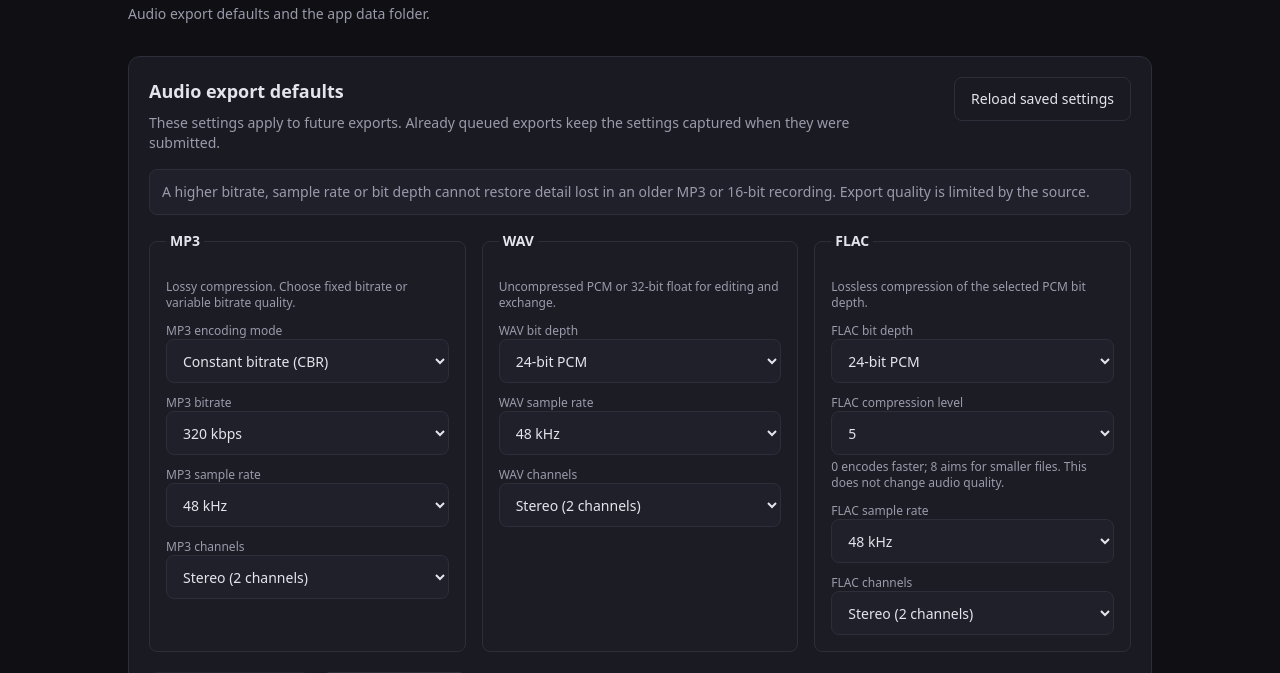
Test: preserves edits made during a reload while refreshing the saved baseline and defaults
Click the button "Reload saved settings": (1043, 99) [954,77,1131,121]
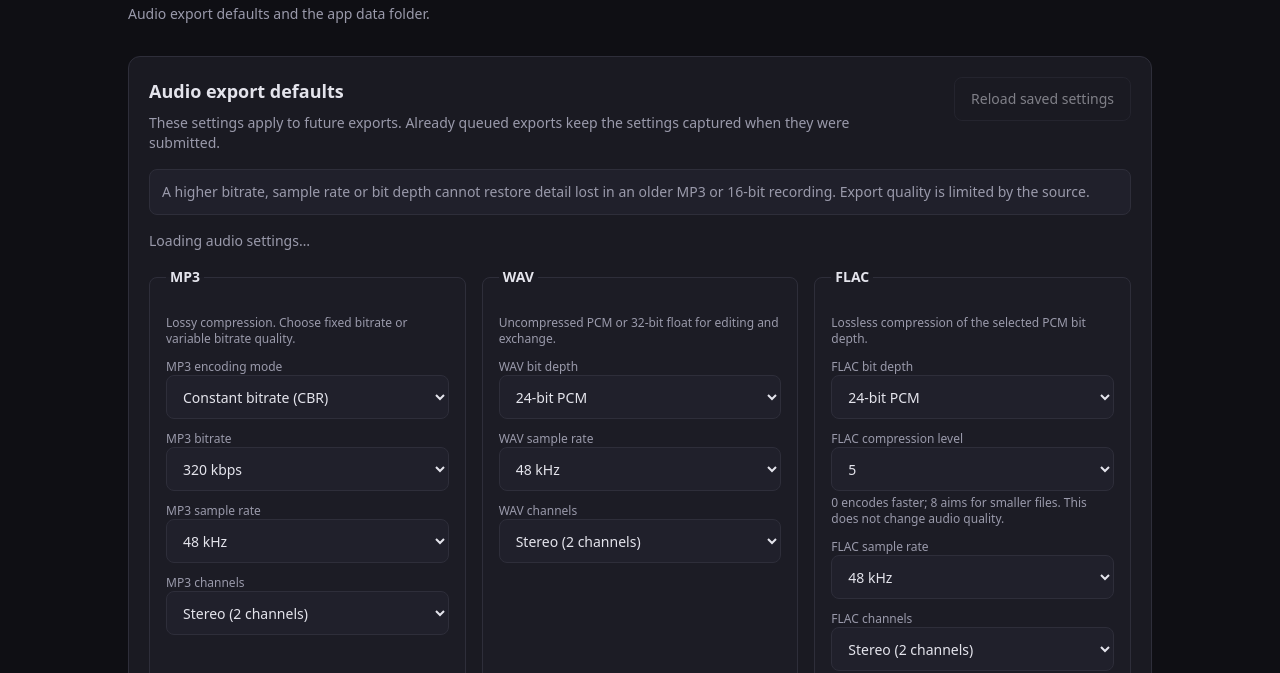
Select "256 kbps" in the dropdown labelled "MP3 bitrate": (307, 469) [166,447,449,491]
(page scrolled)
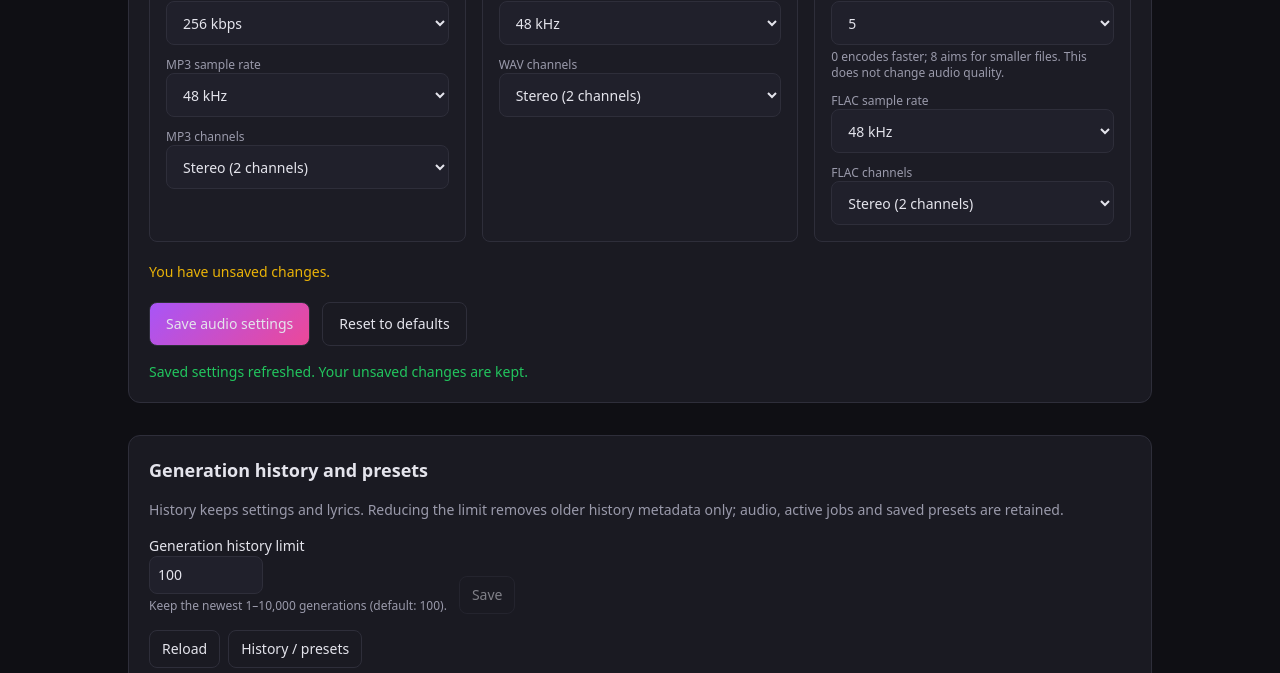
Now the button "Save audio settings" is enabled, box [149,302,310,346]
